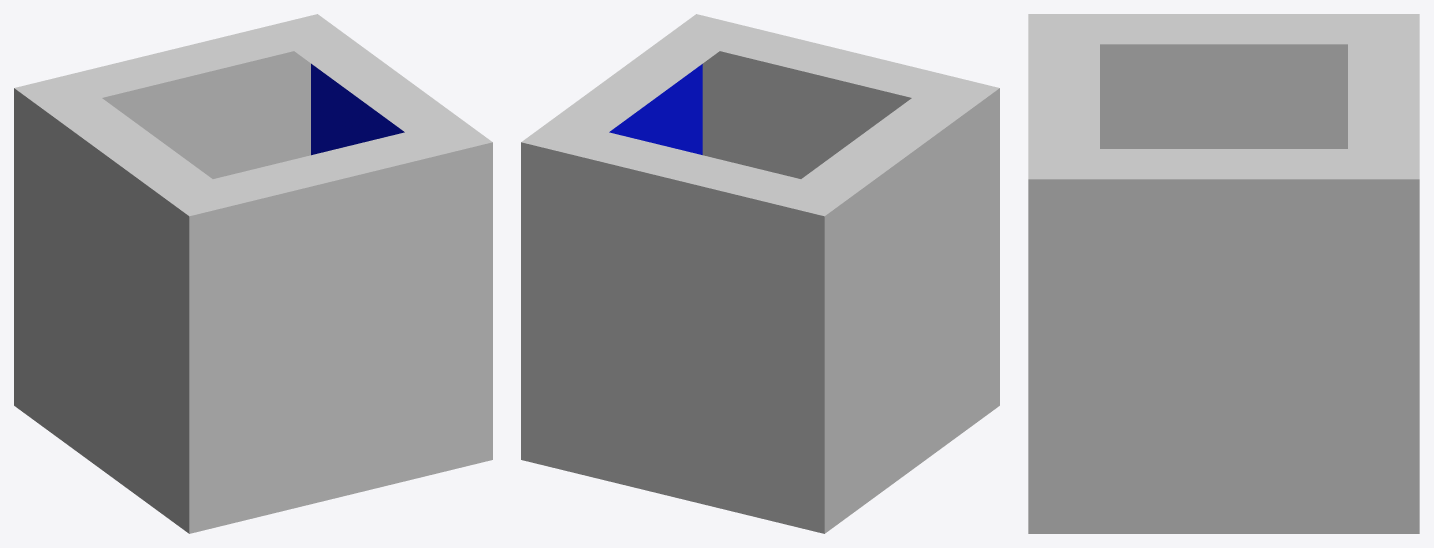
The model's file is cornellbox3.glb.
3 renders of one model, left to right at view 1: azimuth 30°, elevation 25°; view 2: azimuth 150°, elevation 25°; view 3: azimuth 270°, elevation 25°, orthographic. The views are drawn at different scales.
Visible parts, largest first — view 1: Cube; view 2: Cube; view 3: Cube.
Part boxes in pixels (bbox=[...]): Cube: bbox=[14, 14, 492, 533]; Cube: bbox=[521, 14, 999, 533]; Cube: bbox=[1028, 14, 1419, 533].
Bounding box in the file's own units: 12 × 12 × 12.
